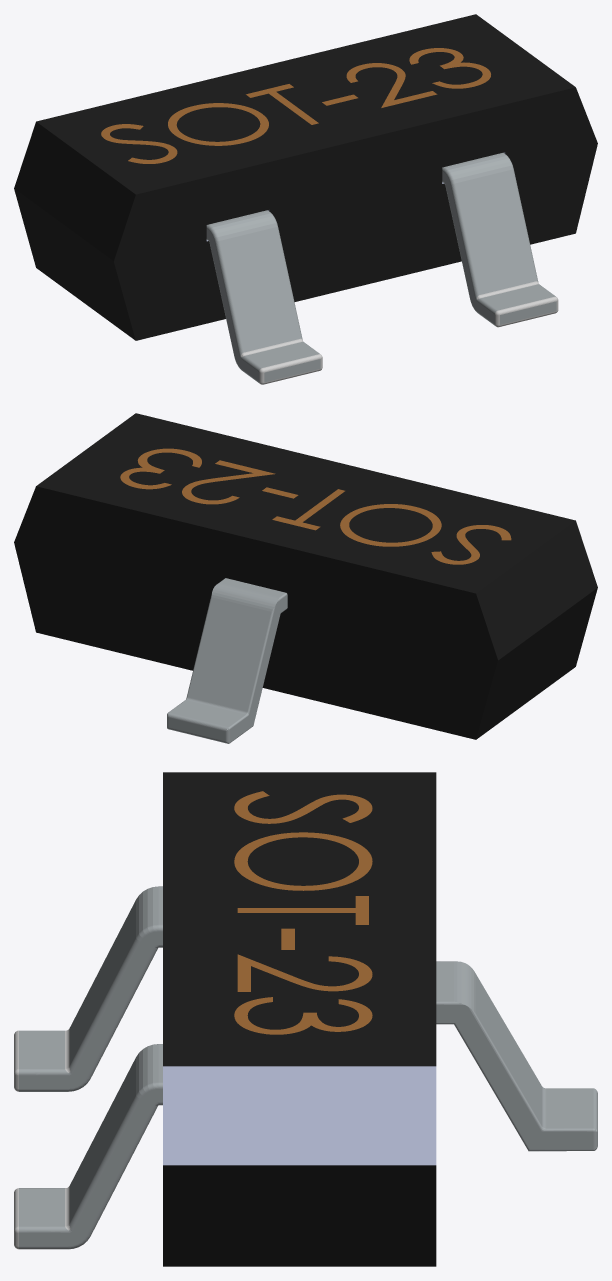
Rendered from Transistor-sot-23.obj.
3 views of the same model, one above another, from view 1: azimuth 30°, elevation 25°; view 2: azimuth 150°, elevation 25°; view 3: azimuth 270°, elevation 25° (orthographic). The views are drawn at different scales.
Visible parts, largest first — view 1: Transistor-sot-23; view 2: Transistor-sot-23; view 3: Transistor-sot-23.
Part boxes in pixels (x1,y1,x2,y2): Transistor-sot-23: [14, 14, 597, 384]; Transistor-sot-23: [14, 413, 597, 743]; Transistor-sot-23: [14, 772, 597, 1266].
Bounding box in the file's own units: 0.017 × 0.0057 × 0.013.
